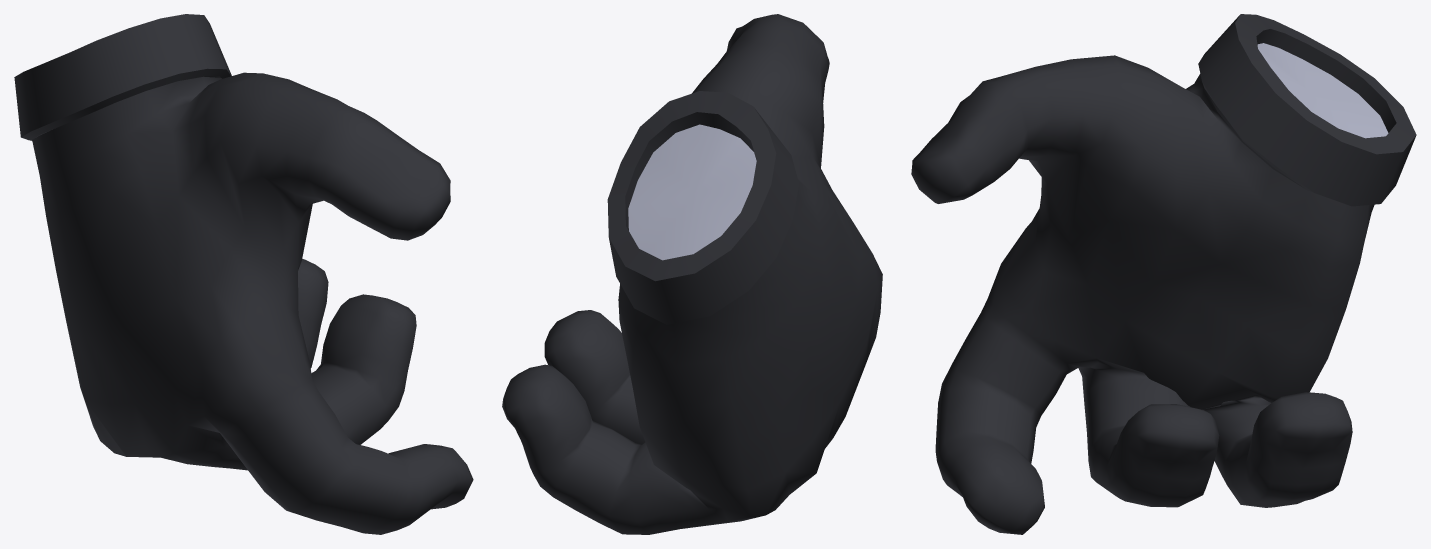
File: hand_basic_trigger.fbx
3 views of the same model, side by side, from view 1: azimuth 30°, elevation 25°; view 2: azimuth 150°, elevation 25°; view 3: azimuth 270°, elevation 25° (orthographic). The views are drawn at different scales.
Visible parts, largest first — view 1: triggerhand; view 2: triggerhand; view 3: triggerhand.
Boxes of the visible parts, x1,y1,x2,y2 form: triggerhand: (14,14,473,534); triggerhand: (502,14,882,534); triggerhand: (911,14,1416,534).
Size of the model in its own units: 6.59 by 9.36 by 9.64.
